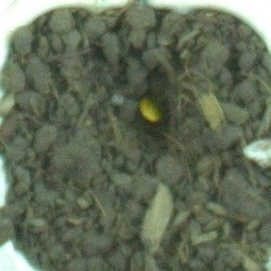pepper seed: (52, 31, 221, 157)
